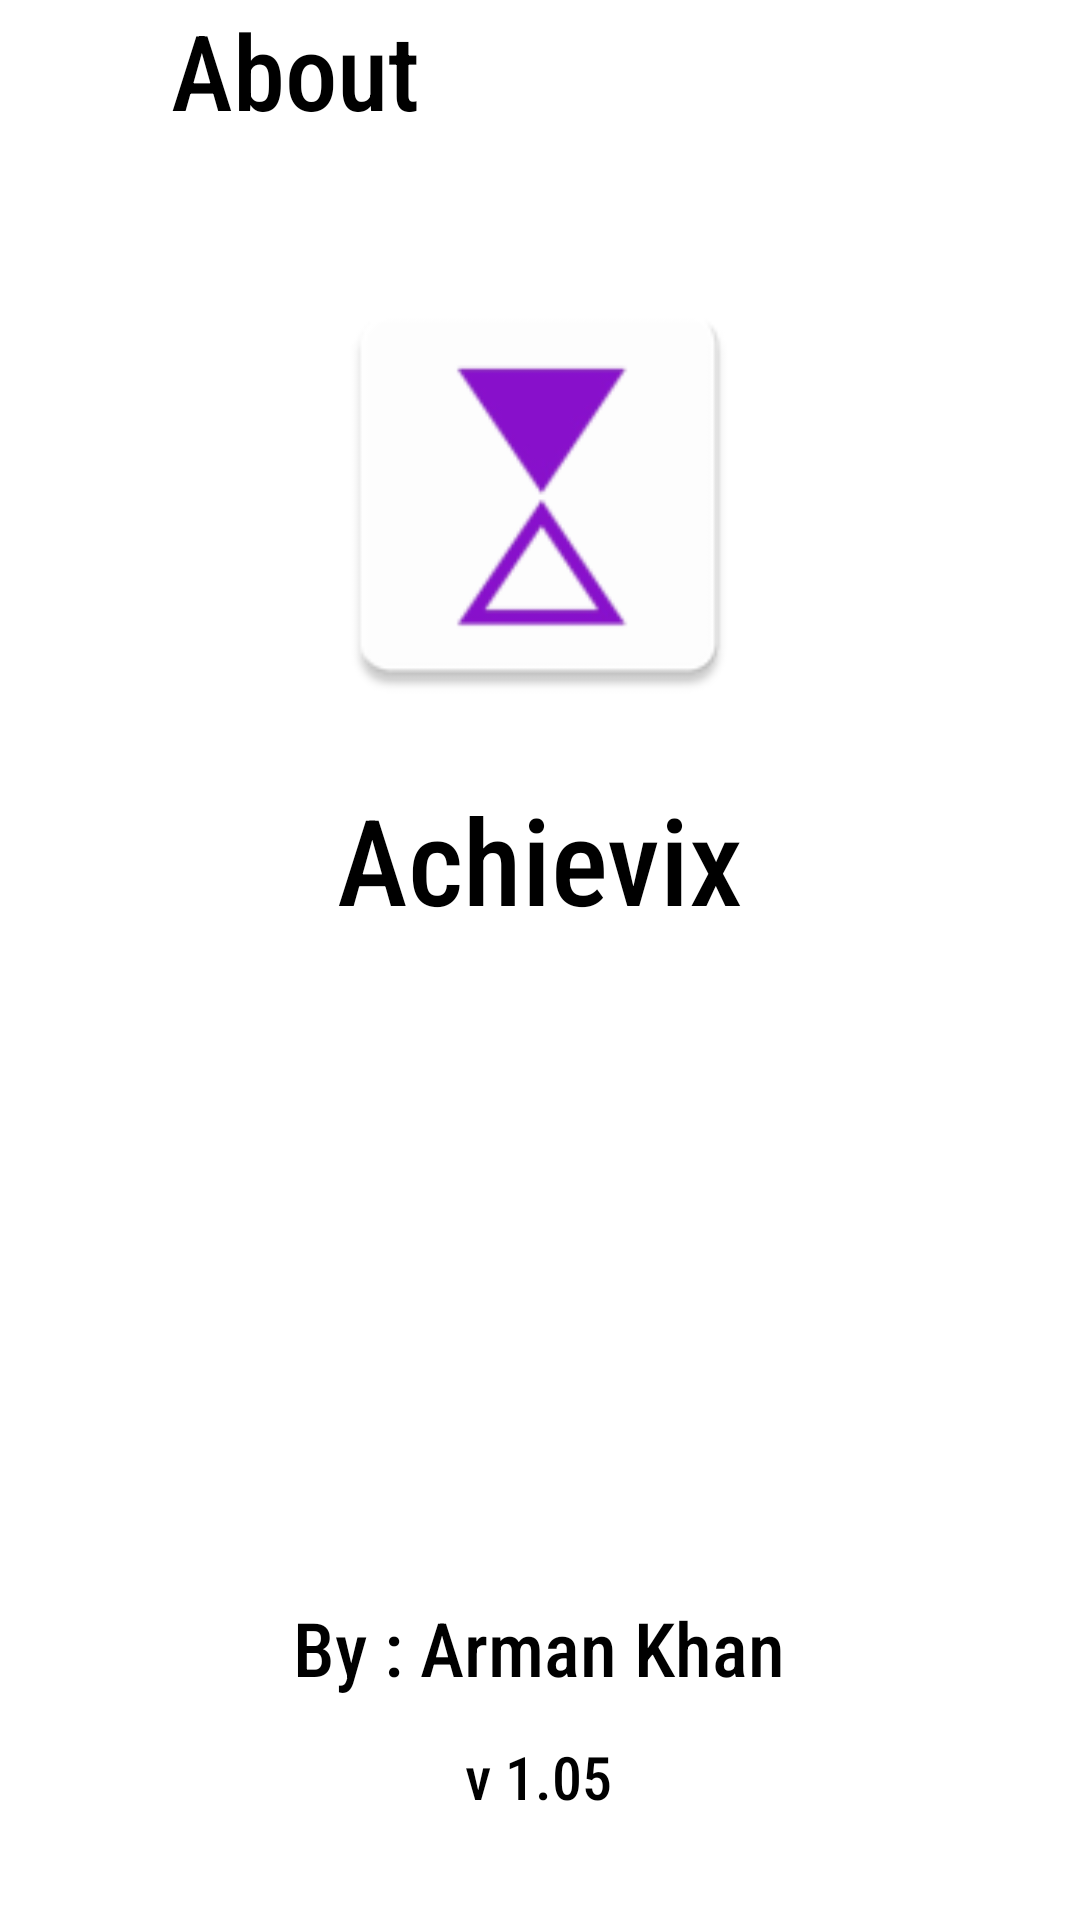

Named icons in this screenshot (1080×1920) and their bounding boxes, [x1,y1,x2,y2]:
app: [361,334,720,683]
